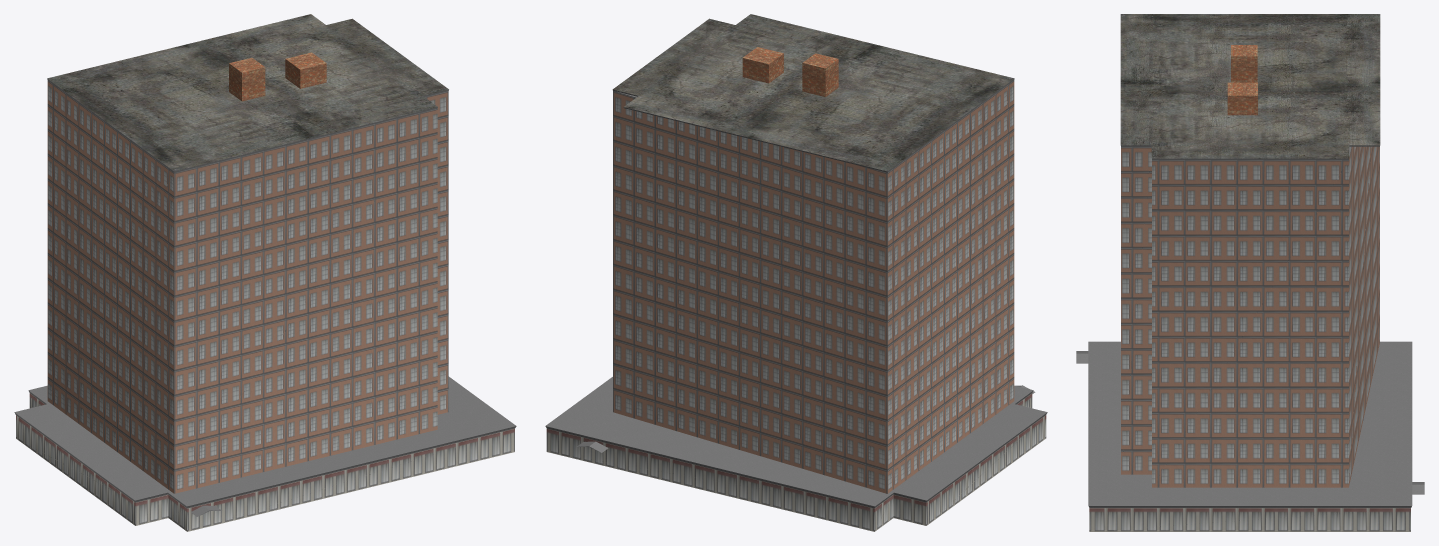
File: LOD01_Building_14stores_BigResidential.obj
3 views of the same model, side by side, from view 1: azimuth 30°, elevation 25°; view 2: azimuth 150°, elevation 25°; view 3: azimuth 270°, elevation 25° (orthographic). The views are drawn at different scales.
Parts seen in each view (by area): view 1: LOD01_Building_14stores_BigResidential; view 2: LOD01_Building_14stores_BigResidential; view 3: LOD01_Building_14stores_BigResidential.
Part boxes in pixels (x1=…): LOD01_Building_14stores_BigResidential: x1=14, y1=14, x2=516, y2=531; LOD01_Building_14stores_BigResidential: x1=545, y1=14, x2=1047, y2=531; LOD01_Building_14stores_BigResidential: x1=1076, y1=14, x2=1424, y2=531.
Bounding box in the file's own units: 16.3 × 16.24 × 13.3.
